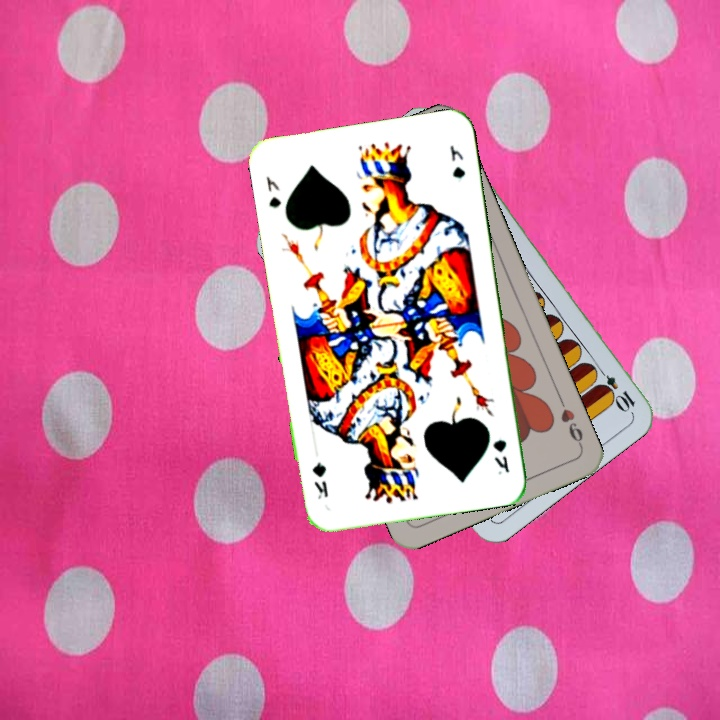E10: (592, 362, 638, 414)
GK: (488, 435, 512, 477), (262, 172, 284, 211)
H9: (555, 394, 586, 451)
